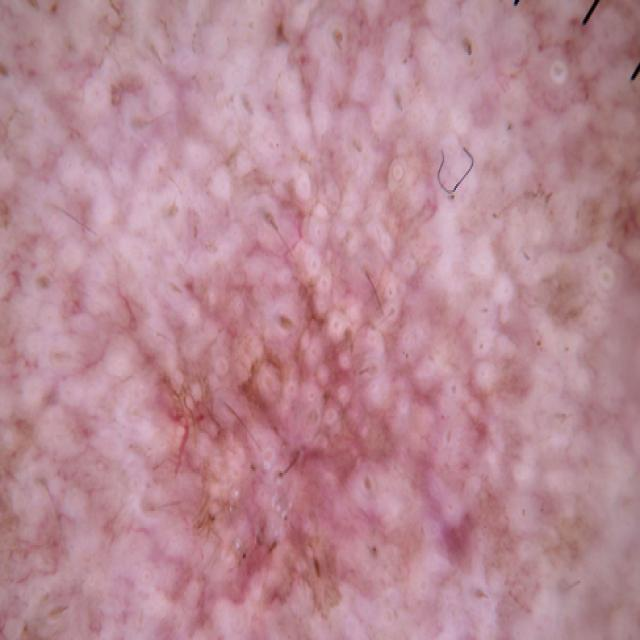Melanoma: (0, 219, 614, 612)
